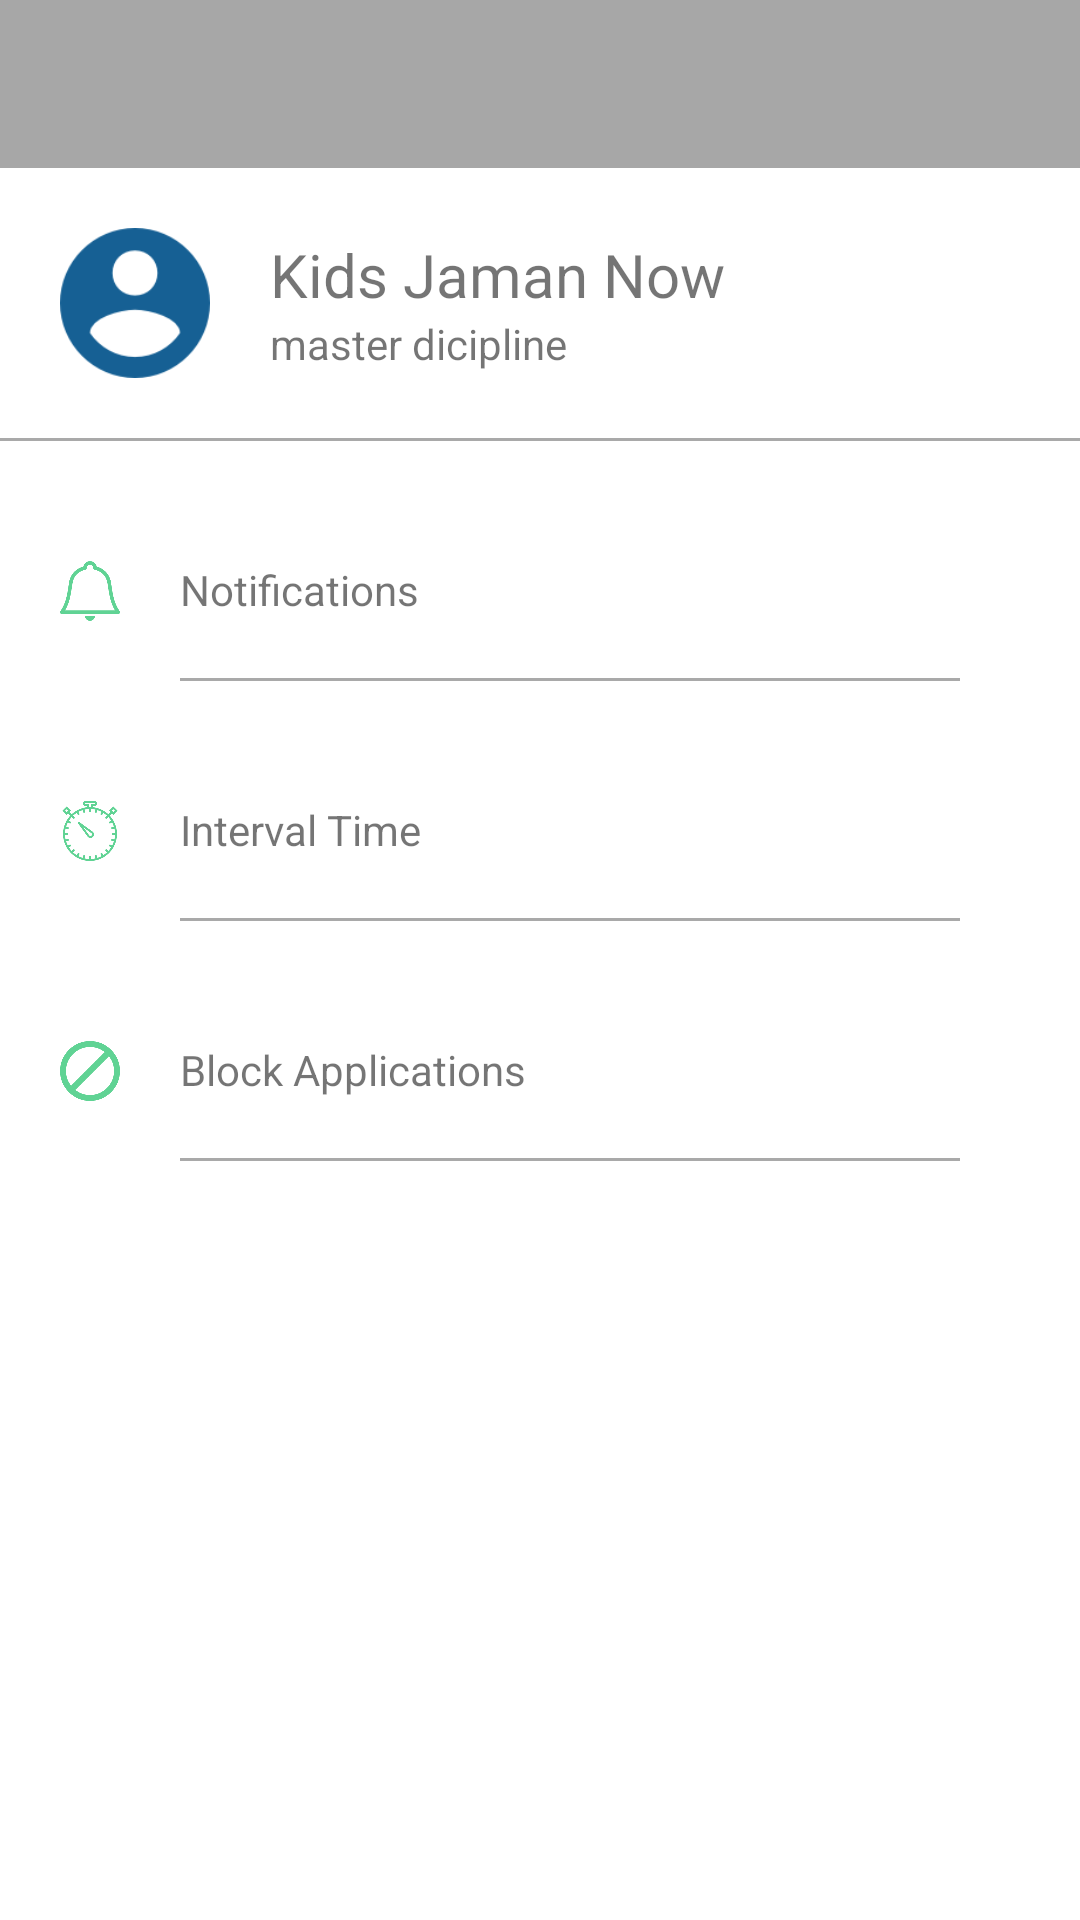

Locate icon controls on the screen. Image size 1080×1920, boxes as (x1, y1, x2, y2).
user round: (60, 228, 210, 378)
